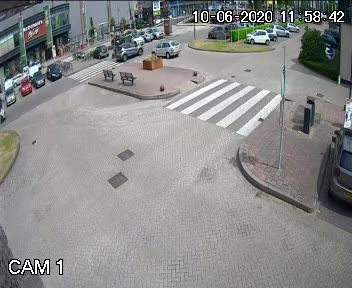car: (108, 41, 142, 65), (150, 39, 186, 60)
